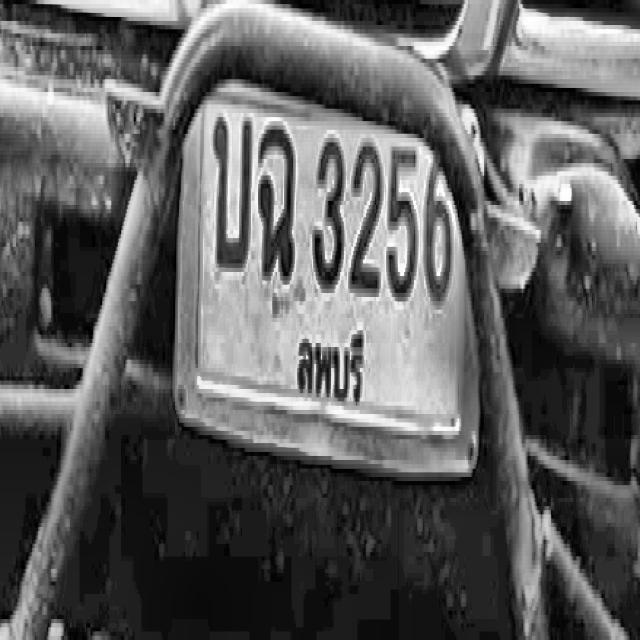license-plate: (168, 38, 500, 500)
